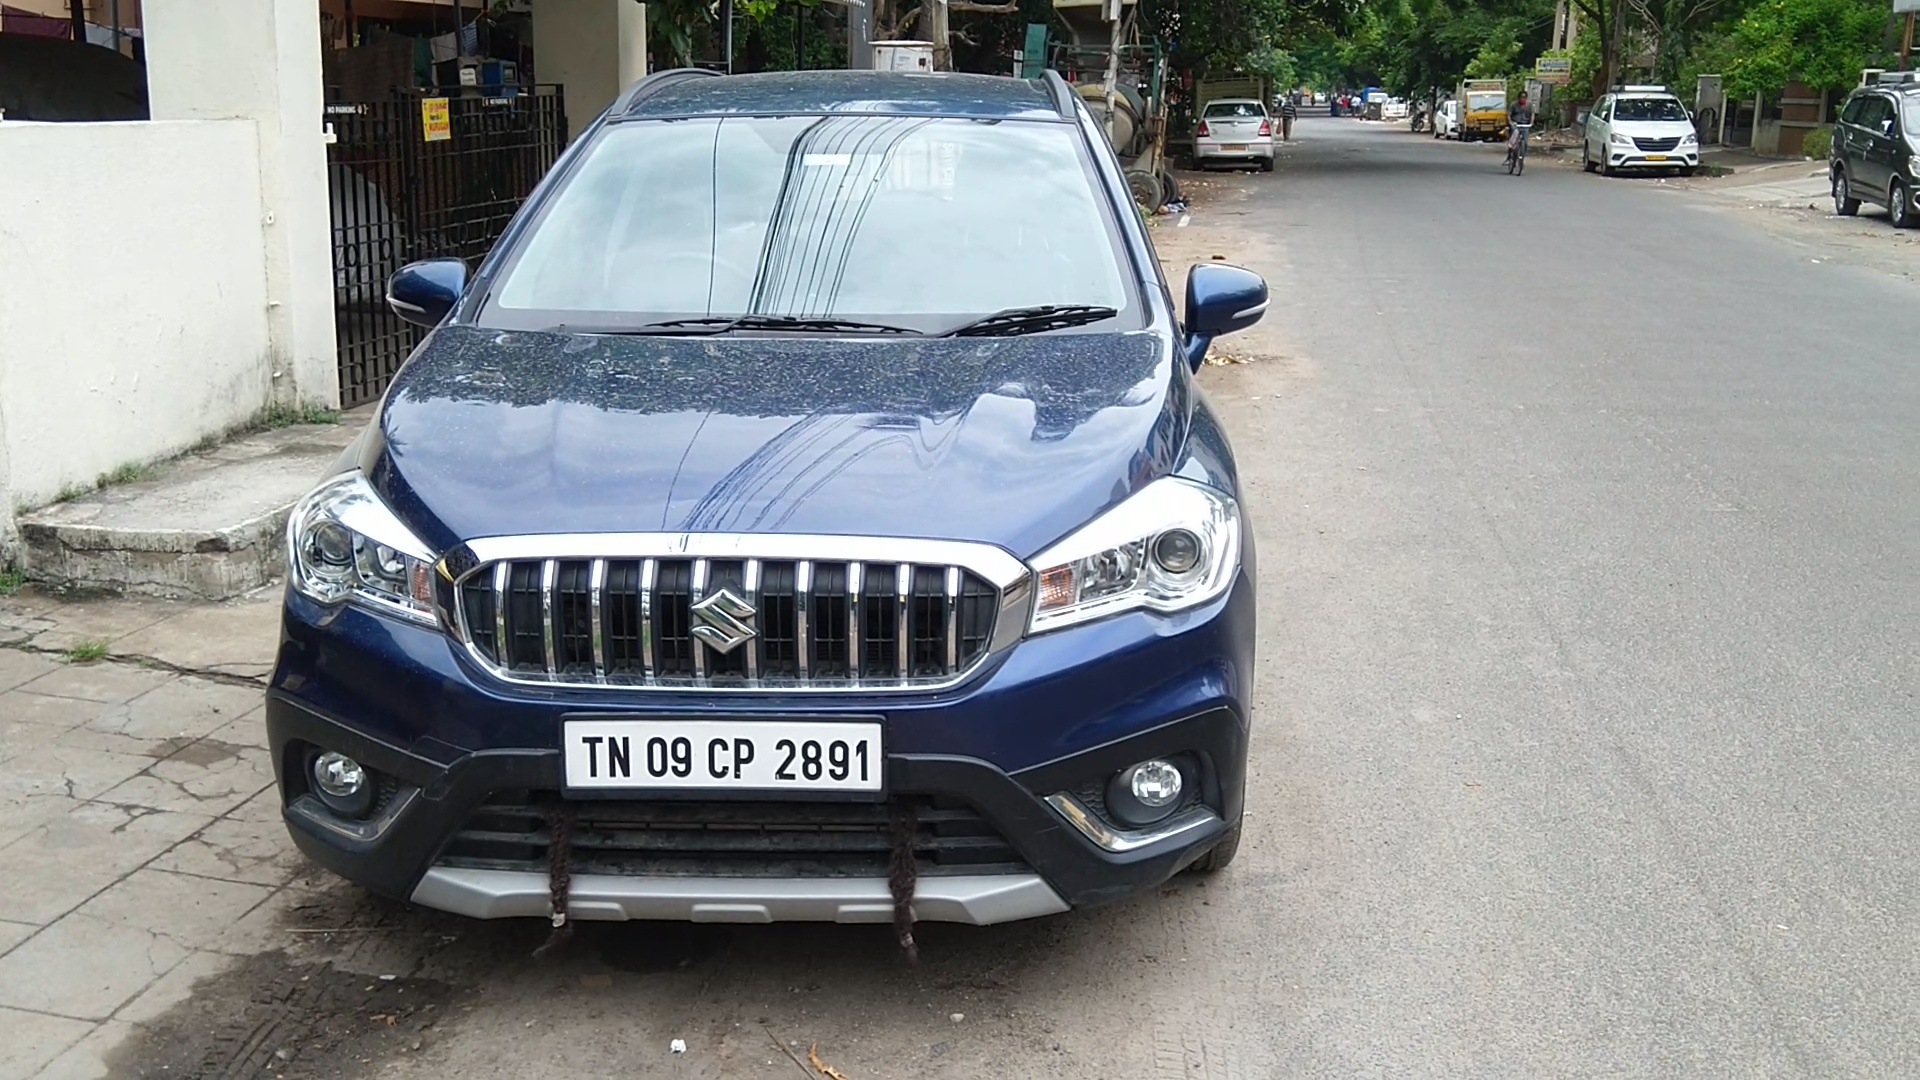front_grill: (434, 524, 1029, 716)
headlamp: (1029, 467, 1247, 642), (287, 464, 434, 642)
ovr_mirror: (1179, 257, 1275, 342), (380, 255, 465, 334)
